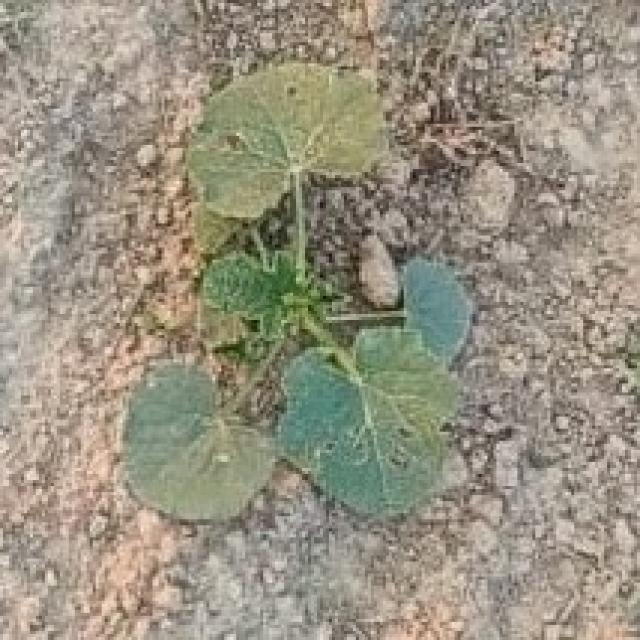plant: (126, 66, 476, 521)
